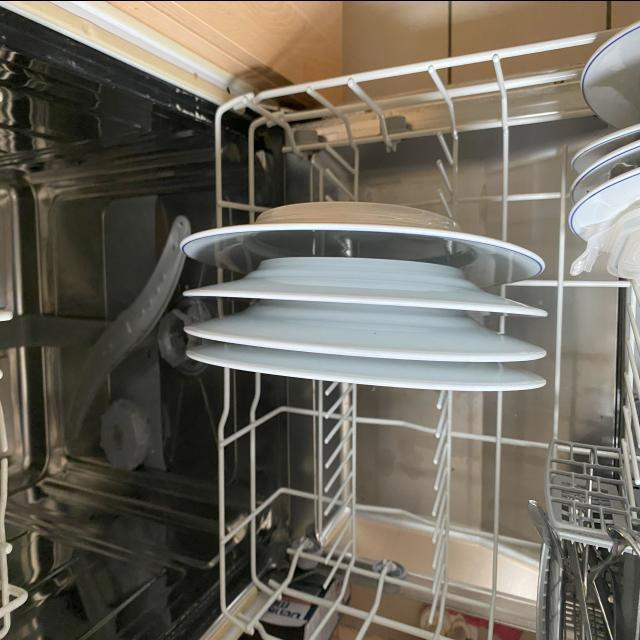empty_slot: (239, 389, 504, 629), (261, 117, 556, 209)
